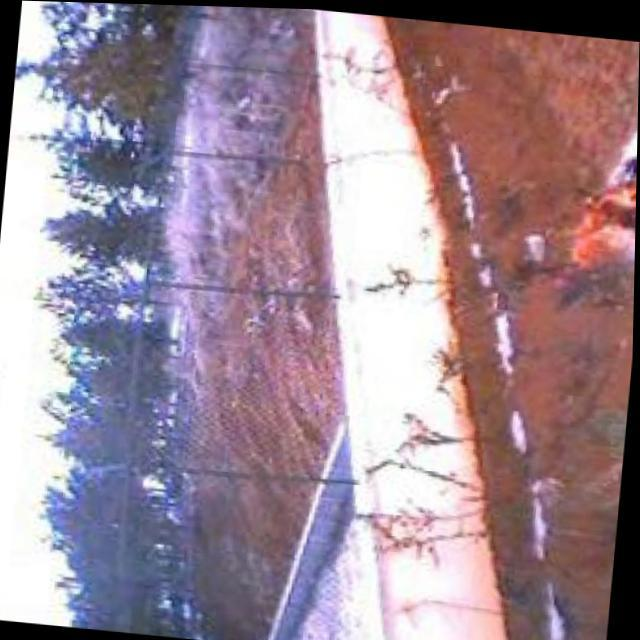fire: (554, 148, 638, 292)
